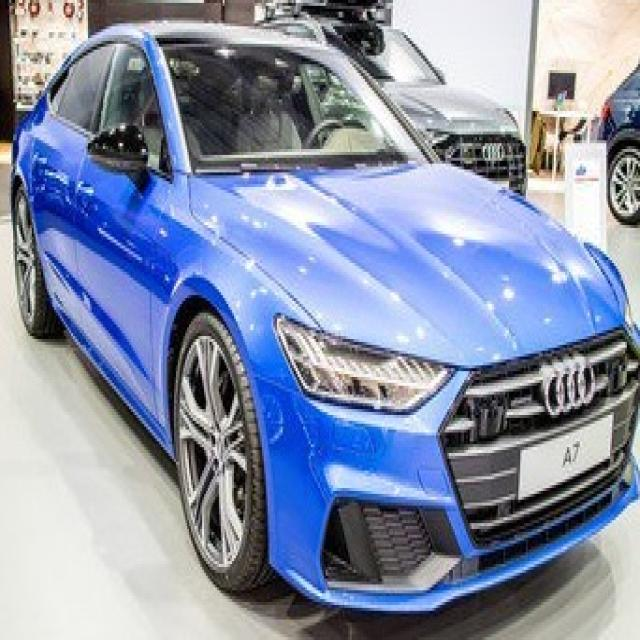blue: (9, 22, 640, 605)
